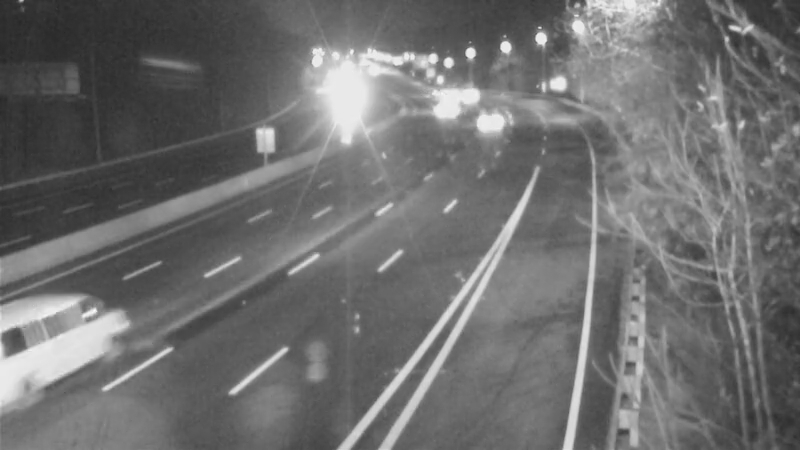vehicle: (10, 278, 120, 388), (408, 68, 458, 118), (448, 71, 498, 121), (424, 69, 474, 119), (424, 84, 474, 134), (468, 96, 518, 146)
